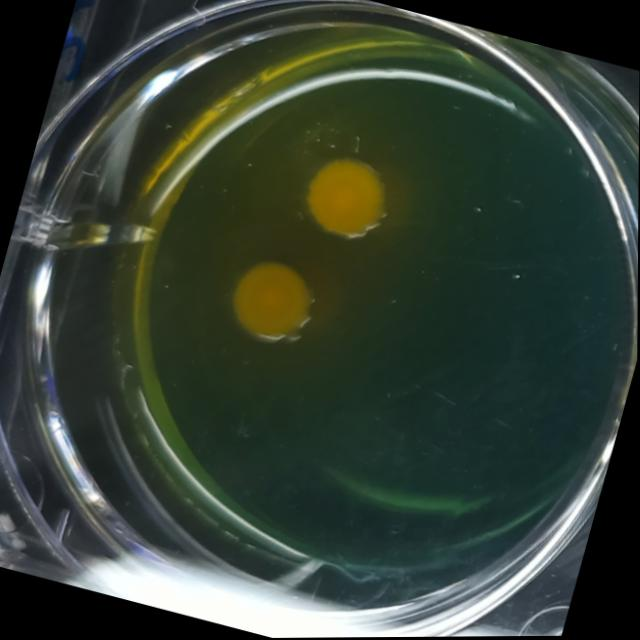vibrio: (289, 135, 404, 254), (217, 246, 322, 356)
